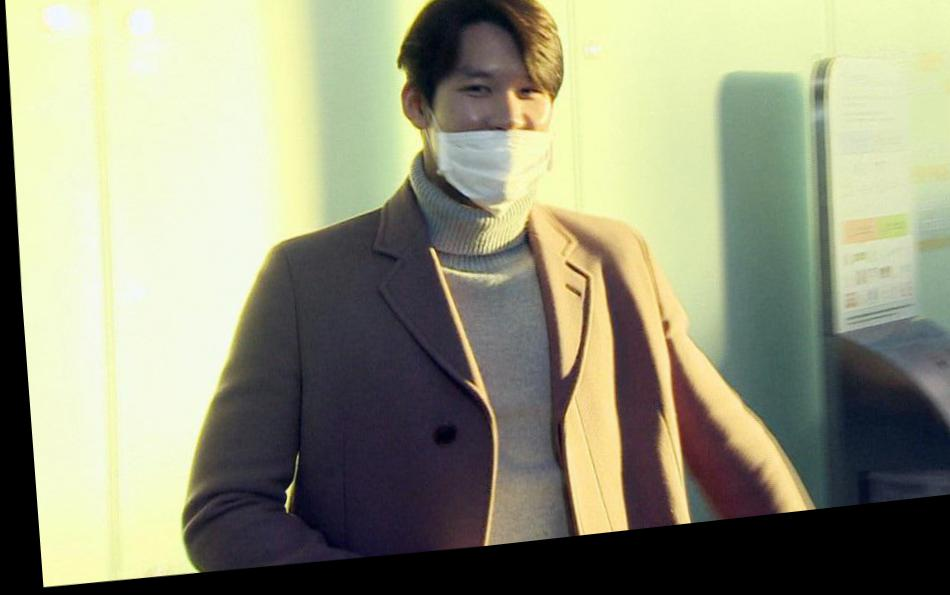WRONG: (417, 73, 558, 226)
